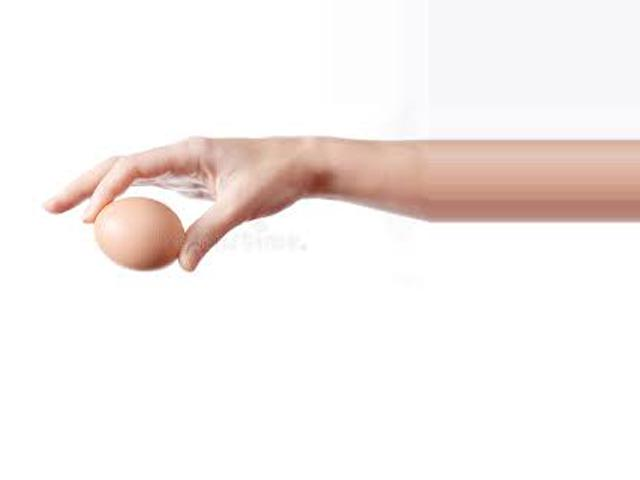egg: (94, 198, 186, 270)
